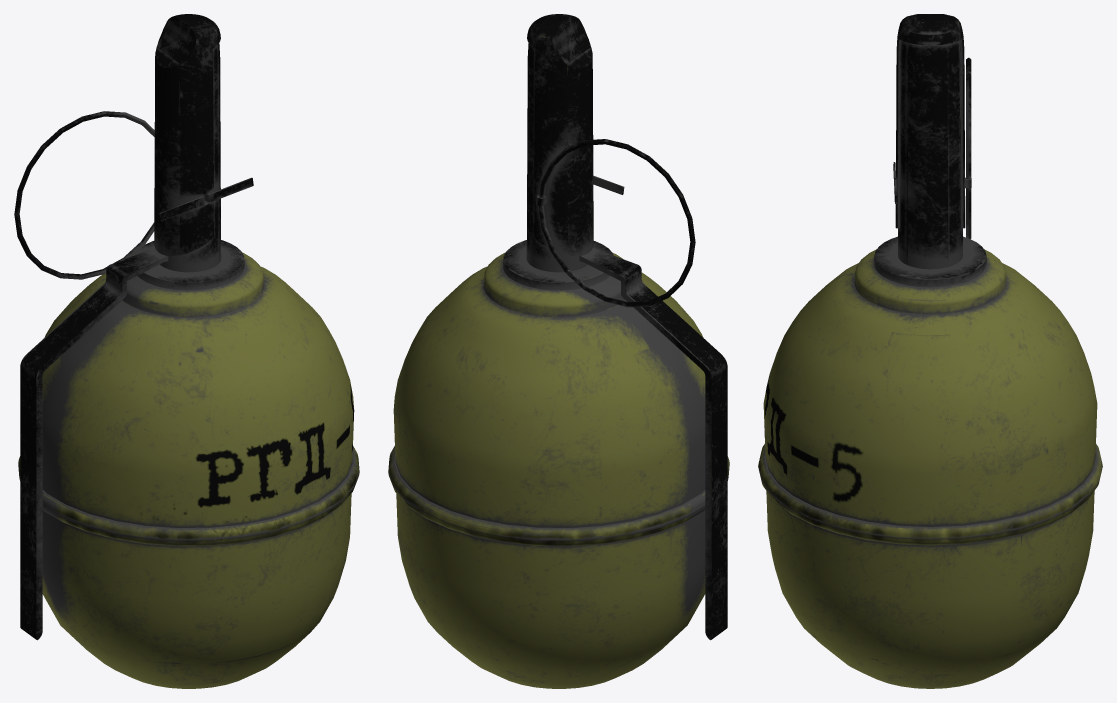
File: rgd 5.fbx
3 renders of one model, left to right at view 1: azimuth 30°, elevation 25°; view 2: azimuth 150°, elevation 25°; view 3: azimuth 270°, elevation 25°, orthographic.
Parts seen in each view (by area): view 1: Cylinder; view 2: Cylinder; view 3: Cylinder.
Boxes of the visible parts, x1,y1,x2,y2 form: Cylinder: (14,14,359,688); Cylinder: (388,14,729,688); Cylinder: (758,14,1102,688).
Bounding box in the file's own units: 231 × 464 × 221.
